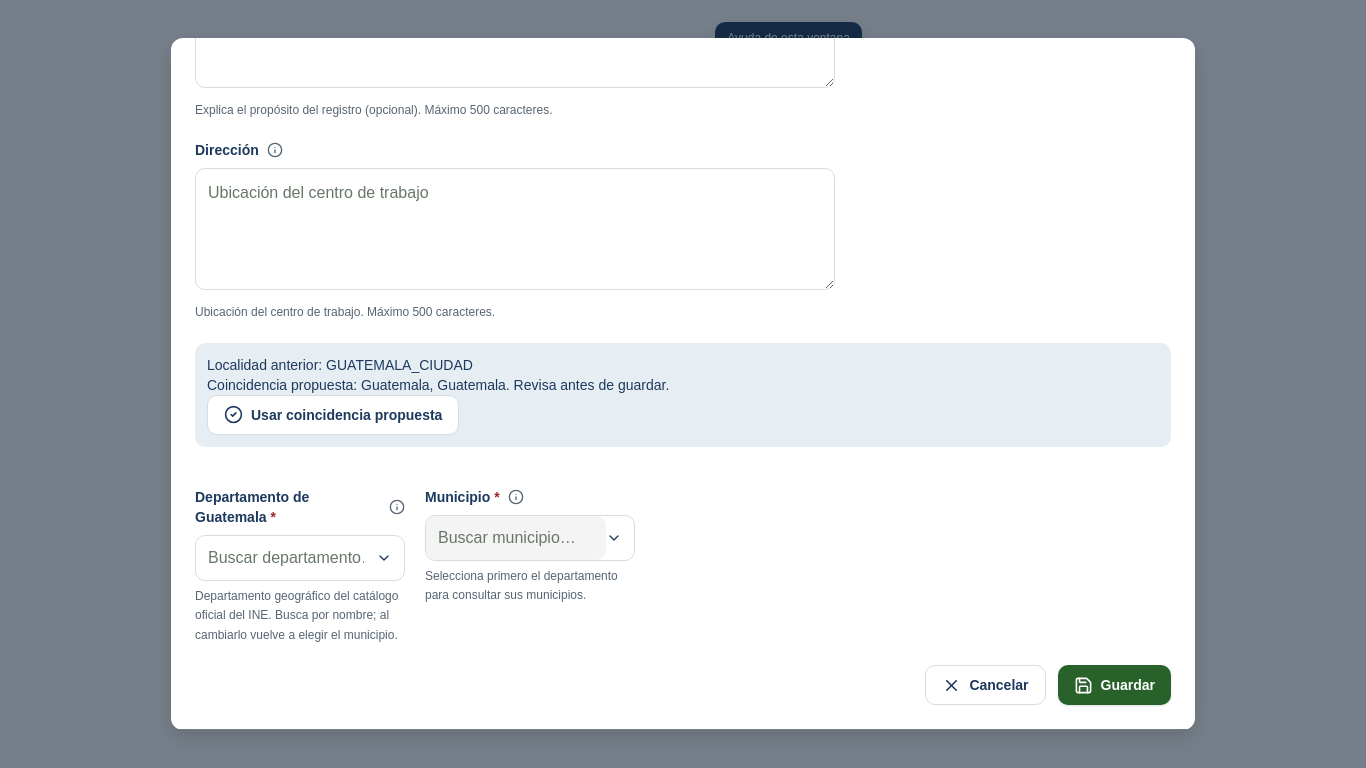
Test: Catálogos: validación y formularios › centros históricos muestran referencia y aplican la propuesta solo al pedirlo
The image size is (1366, 768).
(page scrolled)
Expected: the text "Localidad anterior: GUATEMALA_CIUDAD" is shown, [207,357,473,373]
Expected: the dropdown labelled "Municipio" is disabled, [426,516,606,560]
Click the button "Usar coincidencia propuesta" at (333, 415), box [207,395,459,435]
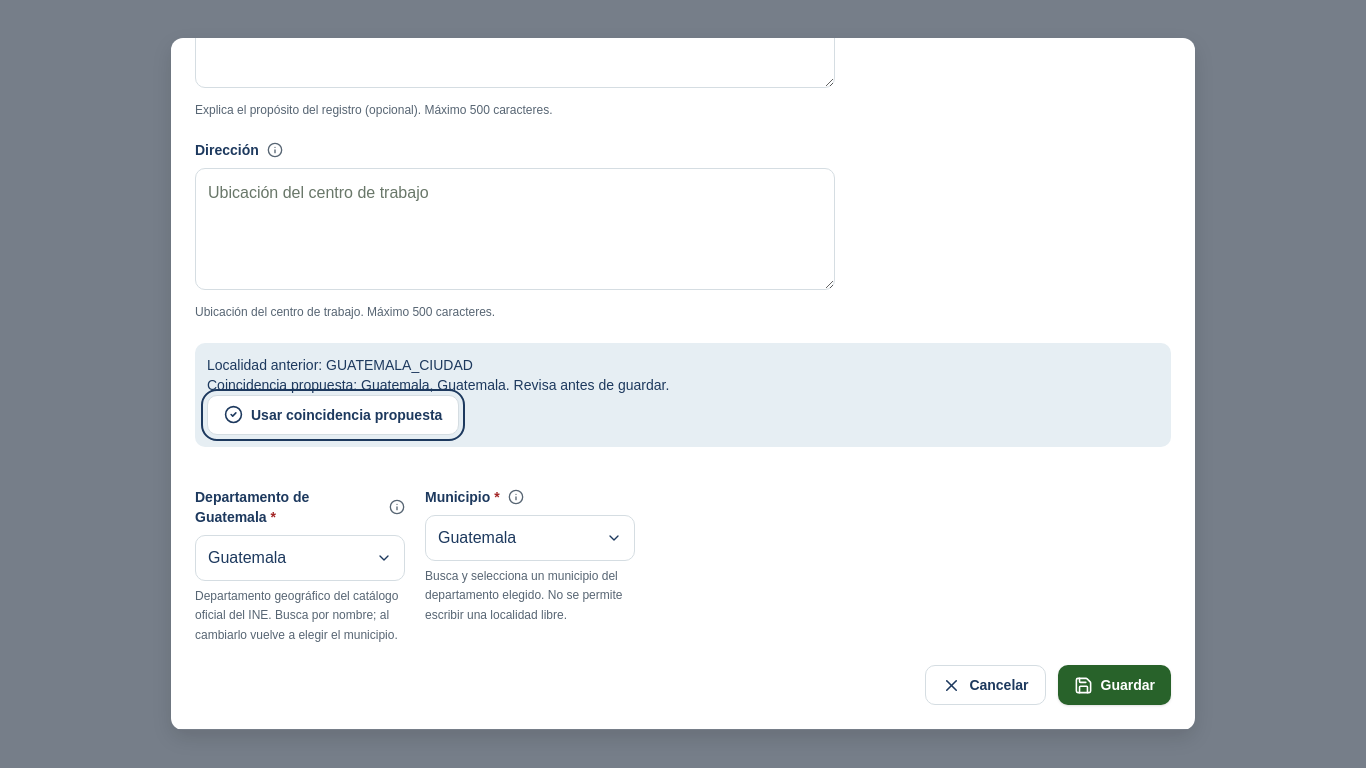
Expected: the dropdown labelled "Municipio" holds "Guatemala", [426,516,606,560]
